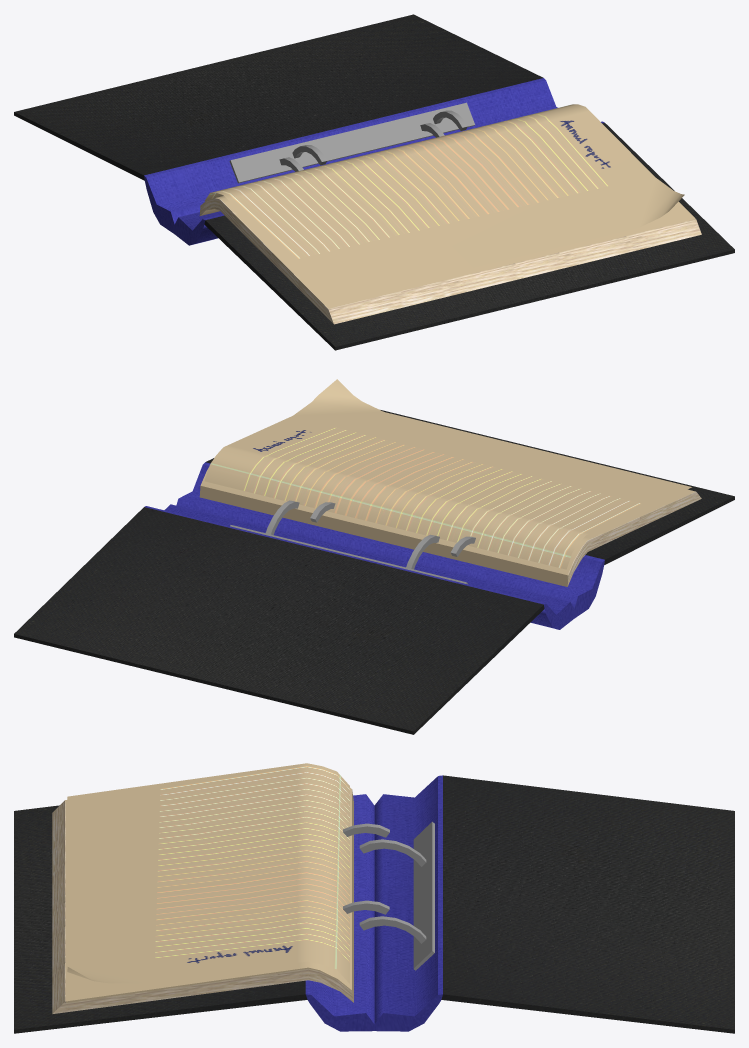
File: Binder2.fbx
3 views of the same model, one above another, from view 1: azimuth 30°, elevation 25°; view 2: azimuth 150°, elevation 25°; view 3: azimuth 270°, elevation 25° (orthographic). The views are drawn at different scales.
Parts seen in each view (by area): view 1: Binder:Binder:pCube4, Binder:Binder:pCube8, Binder:Binder:pCube7, Binder:Binder:pCube5; view 2: Binder:Binder:pCube4, Binder:Binder:pCube8, Binder:Binder:pCube7, Binder:Binder:pCube5; view 3: Binder:Binder:pCube4, Binder:Binder:pCube8, Binder:Binder:pCube7, Binder:Binder:pCube5, Binder:Binder:pPipe1, Binder:Binder:pPipe3, Binder:Binder:pPipe2, Binder:Binder:pPipe4.
Boxes of the visible parts, x1,y1,x2,y2 form: Binder:Binder:pCube4: [14, 14, 734, 350]; Binder:Binder:pCube8: [205, 104, 684, 302]; Binder:Binder:pCube7: [199, 196, 701, 324]; Binder:Binder:pCube5: [229, 102, 474, 183]; Binder:Binder:pCube4: [14, 410, 734, 734]; Binder:Binder:pCube8: [204, 379, 691, 569]; Binder:Binder:pCube7: [199, 457, 701, 586]; Binder:Binder:pCube5: [230, 525, 468, 584]; Binder:Binder:pCube4: [14, 775, 734, 1033]; Binder:Binder:pCube8: [67, 763, 349, 983]; Binder:Binder:pCube7: [52, 787, 353, 1013]; Binder:Binder:pCube5: [413, 821, 434, 970]; Binder:Binder:pPipe1: [359, 916, 426, 943]; Binder:Binder:pPipe3: [359, 839, 426, 866]; Binder:Binder:pPipe2: [343, 823, 389, 837]; Binder:Binder:pPipe4: [343, 900, 389, 914].
Size of the model in its own units: 3.5 by 0.4788 by 4.87.
1 material, 1 textured.
